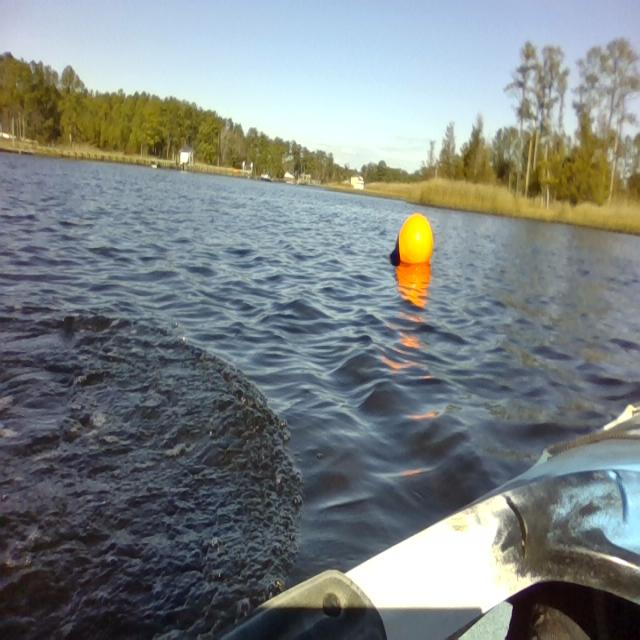Buoy: (382, 208, 437, 287)
